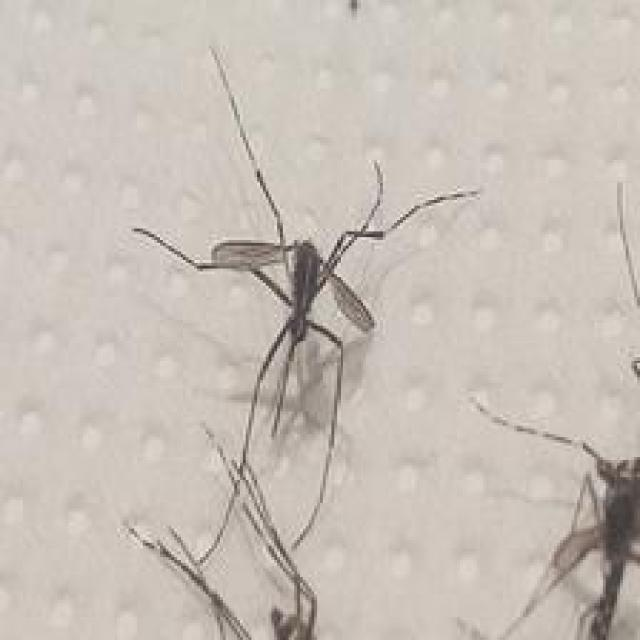Aedes albopictus: (124, 45, 481, 640)
